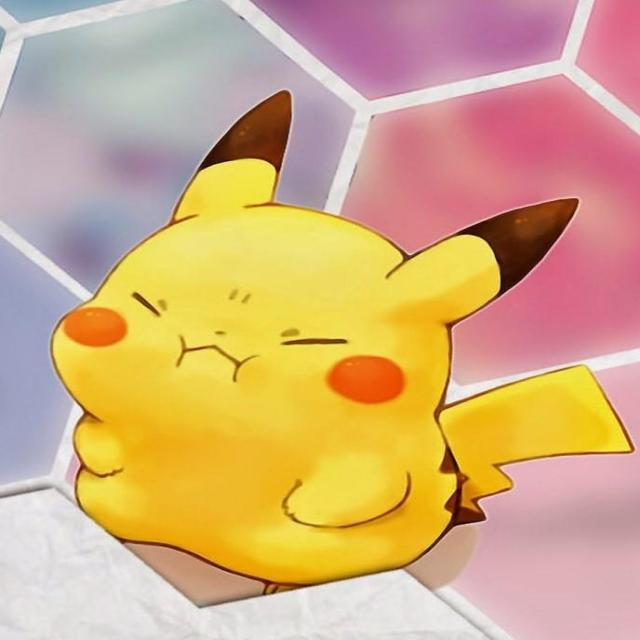pikachu: (61, 90, 618, 584)
